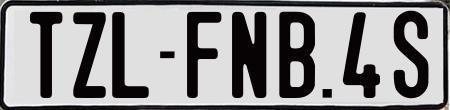4: (342, 11, 380, 99)
B: (277, 12, 315, 103)
F: (187, 10, 225, 99)
L: (111, 10, 150, 96)
N: (230, 12, 269, 98)
S: (394, 8, 429, 97)
T: (30, 12, 66, 100)
Z: (73, 9, 107, 95)
